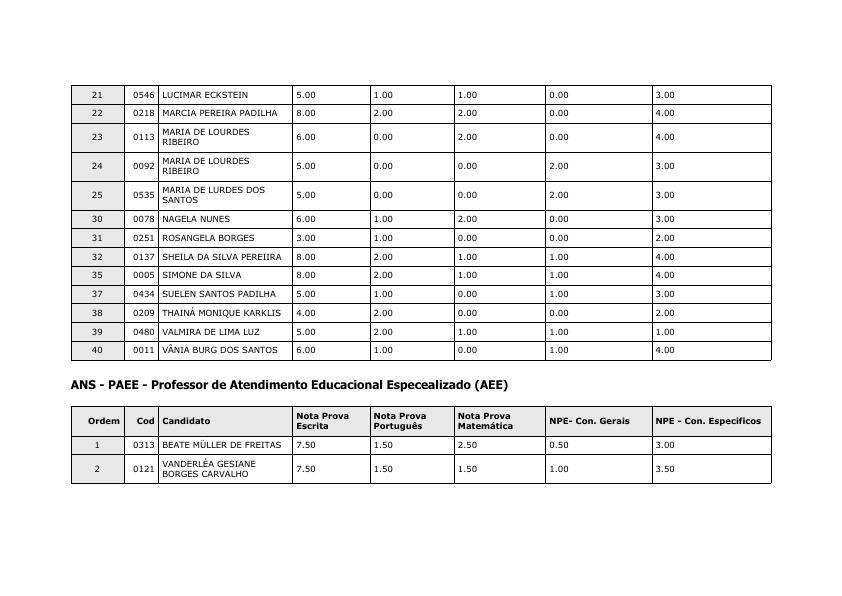table: (64, 79, 774, 366), (65, 399, 778, 491)
text: (66, 373, 511, 394)
